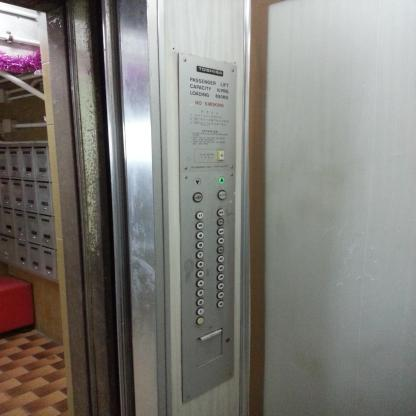1: (196, 307, 204, 315)
10: (195, 221, 204, 229)
11: (196, 211, 204, 219)
12: (216, 300, 224, 308)
13: (216, 291, 224, 299)
14: (216, 282, 224, 290)
15: (216, 273, 224, 281)
16: (217, 265, 224, 272)
17: (216, 255, 224, 263)
18: (216, 246, 224, 254)
19: (216, 236, 224, 244)
2: (196, 298, 204, 306)
20: (216, 227, 224, 235)
21: (216, 218, 225, 226)
22: (216, 208, 224, 217)
3: (196, 288, 204, 297)
4: (196, 279, 204, 287)
5: (196, 270, 204, 278)
6: (196, 260, 204, 268)
7: (196, 250, 204, 259)
8: (196, 241, 204, 249)
9: (196, 231, 204, 239)
blur: (196, 316, 204, 325)
close: (217, 189, 226, 200)
down: (193, 177, 201, 186)
open: (192, 191, 203, 203)
text: (218, 150, 225, 160)
up: (218, 176, 226, 184)
